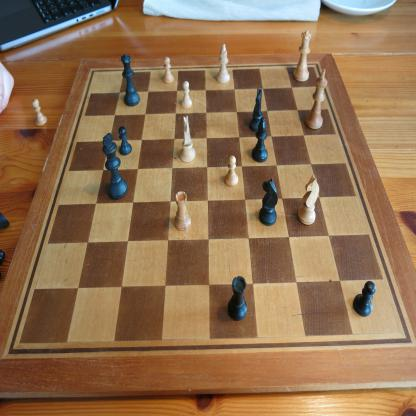black-bishop: (252, 117, 268, 163)
black-king: (102, 132, 129, 201)
black-knight: (258, 177, 279, 226), (249, 87, 263, 132)
black-pawn: (353, 280, 376, 317), (118, 126, 133, 156)
black-queen: (120, 53, 141, 107)
black-rook: (227, 275, 248, 322)
white-bishop: (215, 43, 231, 84)
white-knight: (304, 67, 328, 130), (297, 174, 320, 226), (179, 115, 196, 163)
white-pawn: (224, 154, 239, 188), (31, 98, 48, 127), (180, 80, 194, 109), (162, 57, 174, 84)
white-queen: (293, 30, 312, 82)
white-rook: (174, 191, 192, 232)
